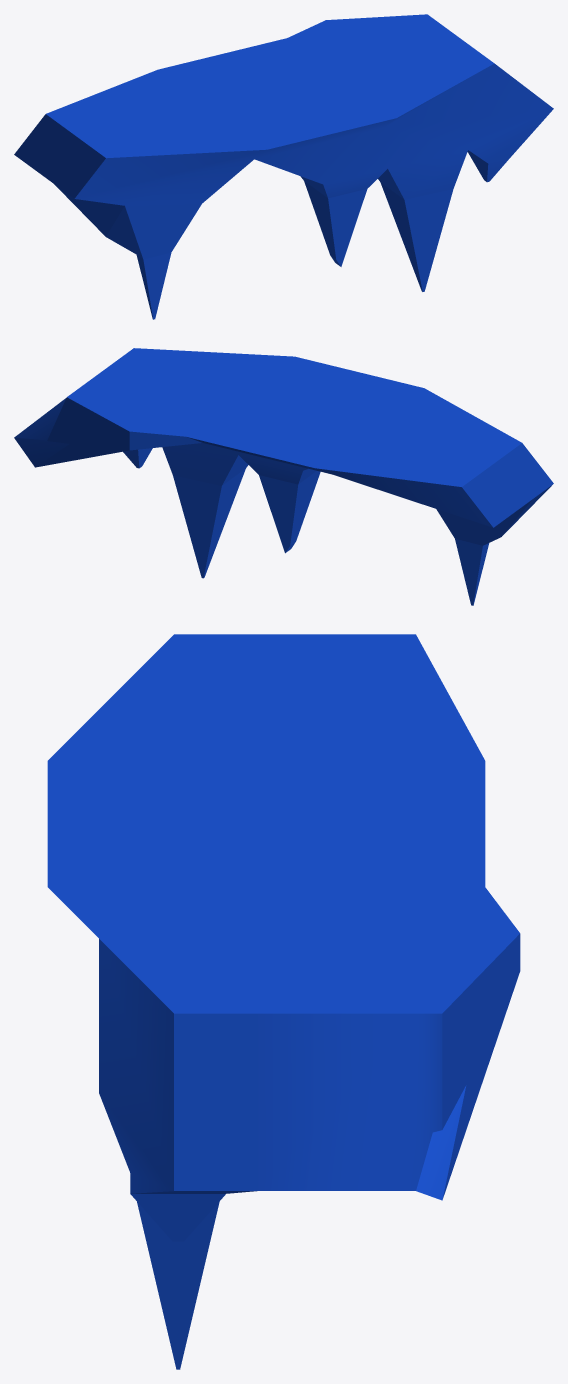
File: CavePlatform3.fbx
3 views of the same model, one above another, from view 1: azimuth 30°, elevation 25°; view 2: azimuth 150°, elevation 25°; view 3: azimuth 270°, elevation 25° (orthographic). The views are drawn at different scales.
Parts seen in each view (by area): view 1: Cave_Platform_3; view 2: Cave_Platform_3; view 3: Cave_Platform_3.
Part boxes in pixels (<box>): Cave_Platform_3: <box>14,14,553,319</box>; Cave_Platform_3: <box>14,348,553,605</box>; Cave_Platform_3: <box>47,634,520,1369</box>.
Bounding box in the file's own units: 647 × 273 × 276.
